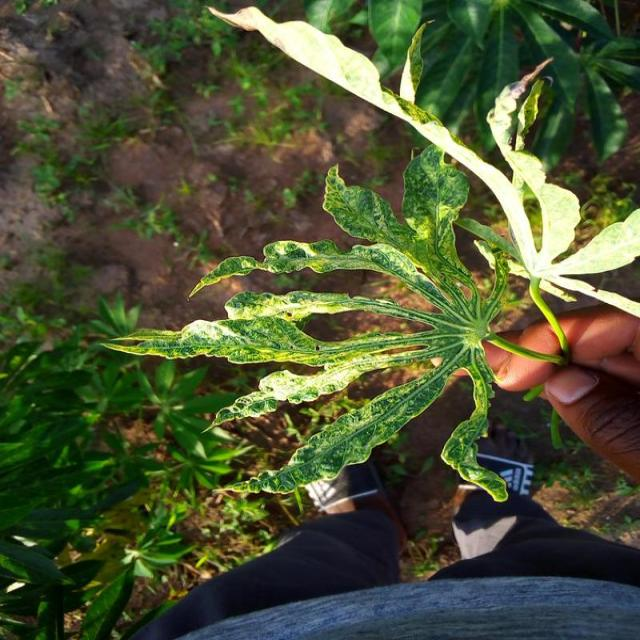cassava leaf: (97, 2, 638, 505)
